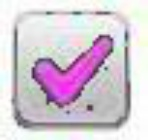CheckBox: (1, 1, 147, 139)
